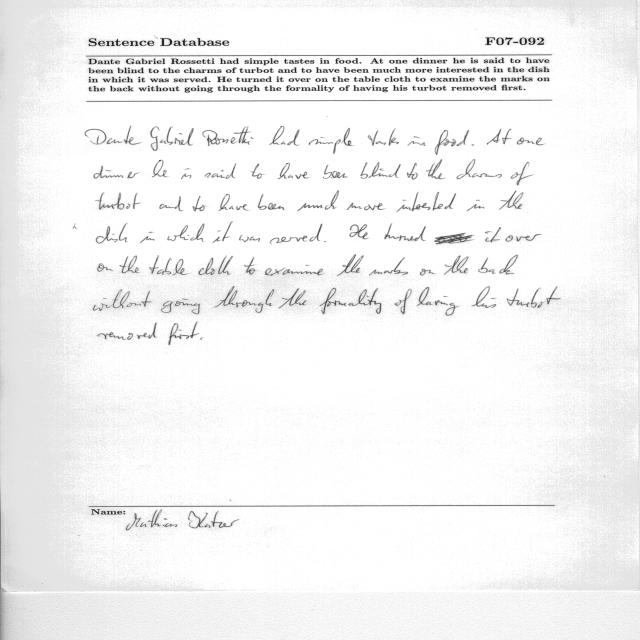word: (214, 286, 274, 313), (320, 288, 382, 314), (93, 289, 152, 311), (396, 192, 456, 212), (417, 287, 458, 316), (507, 286, 560, 308), (309, 128, 353, 154), (74, 224, 128, 244), (85, 126, 141, 145), (150, 127, 194, 151), (203, 126, 254, 146), (98, 323, 157, 340), (270, 224, 322, 243), (456, 159, 502, 179), (435, 130, 469, 155), (297, 191, 339, 211), (149, 256, 188, 276), (96, 193, 141, 210), (478, 255, 518, 274), (384, 224, 426, 242), (168, 322, 199, 345), (168, 223, 205, 242), (369, 258, 408, 276), (360, 162, 401, 179), (198, 256, 233, 275), (265, 265, 323, 276), (270, 126, 300, 146), (94, 166, 139, 179), (161, 299, 200, 314), (337, 255, 364, 276), (279, 288, 306, 308), (472, 286, 496, 308), (368, 129, 399, 146), (219, 194, 249, 211), (511, 163, 533, 186), (205, 163, 236, 179), (278, 163, 309, 179), (444, 256, 469, 275), (499, 191, 523, 210), (258, 194, 285, 210), (434, 233, 473, 244), (395, 289, 412, 314), (213, 222, 233, 243), (487, 129, 511, 145), (426, 159, 445, 179), (323, 164, 348, 179), (159, 196, 184, 211), (120, 256, 139, 274), (347, 203, 385, 211), (349, 225, 368, 240), (506, 234, 541, 242), (152, 160, 167, 177), (485, 227, 501, 242), (517, 138, 545, 146), (244, 257, 256, 275), (251, 164, 265, 179), (193, 196, 206, 211), (407, 136, 426, 146), (467, 200, 484, 211), (407, 163, 418, 179), (140, 232, 154, 243), (239, 235, 260, 242), (98, 263, 113, 272), (181, 168, 191, 179), (420, 269, 435, 275), (471, 144, 474, 146), (200, 338, 203, 340), (324, 241, 326, 242)
